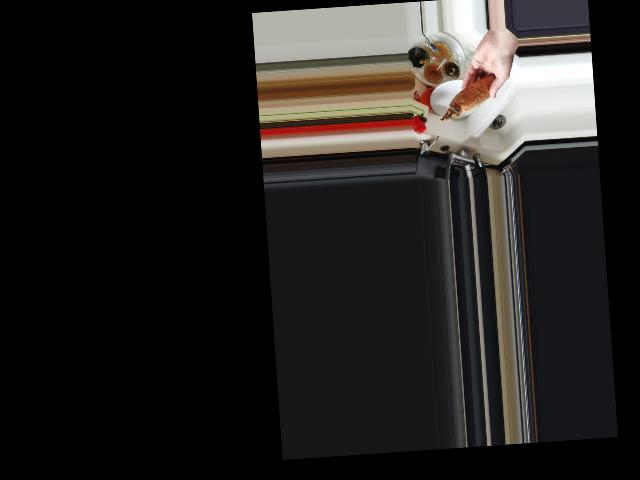sweet_potato: (435, 69, 503, 122)
